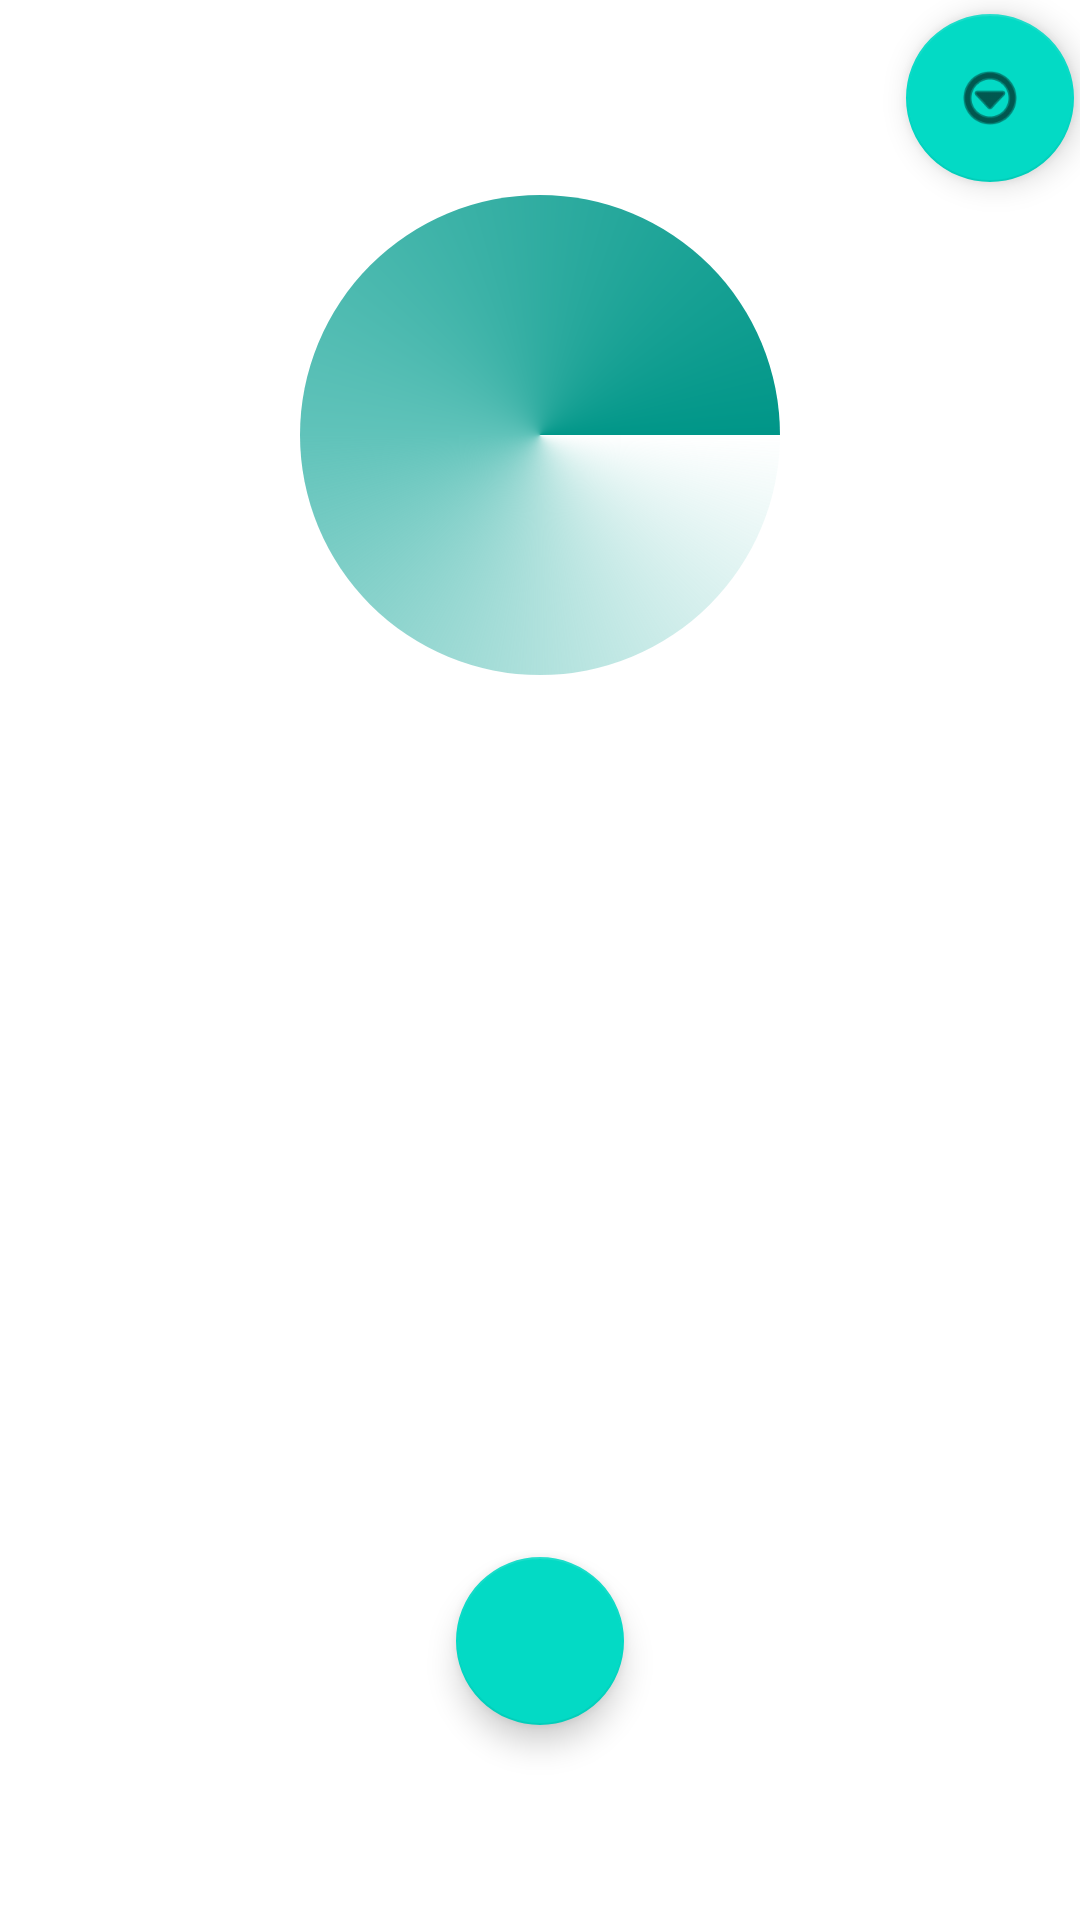

Icons on this 1080px x 1920px Android screen, each with its box as [left=x1, top=y1, right=x2, bottom=y2]:
more: [left=906, top=14, right=1074, bottom=182]
